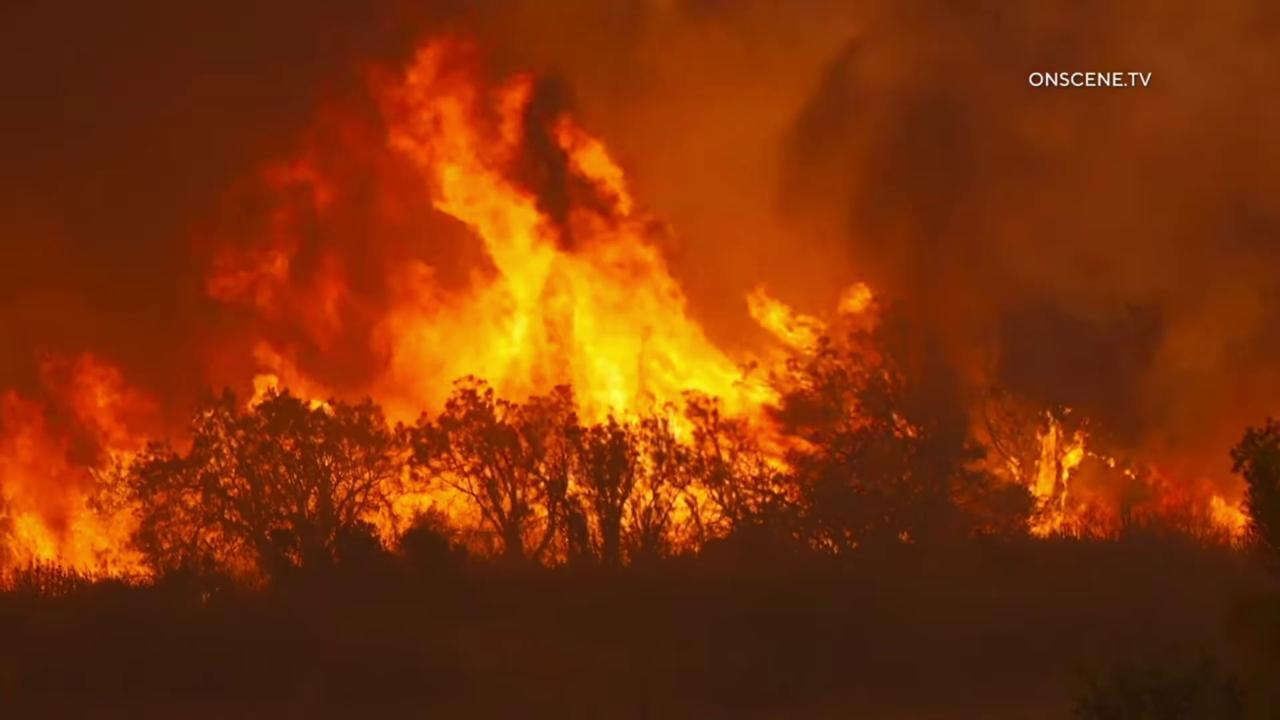fire: (0, 6, 917, 600), (991, 399, 1140, 538), (1198, 486, 1259, 553)
smoke: (0, 0, 1280, 717)
